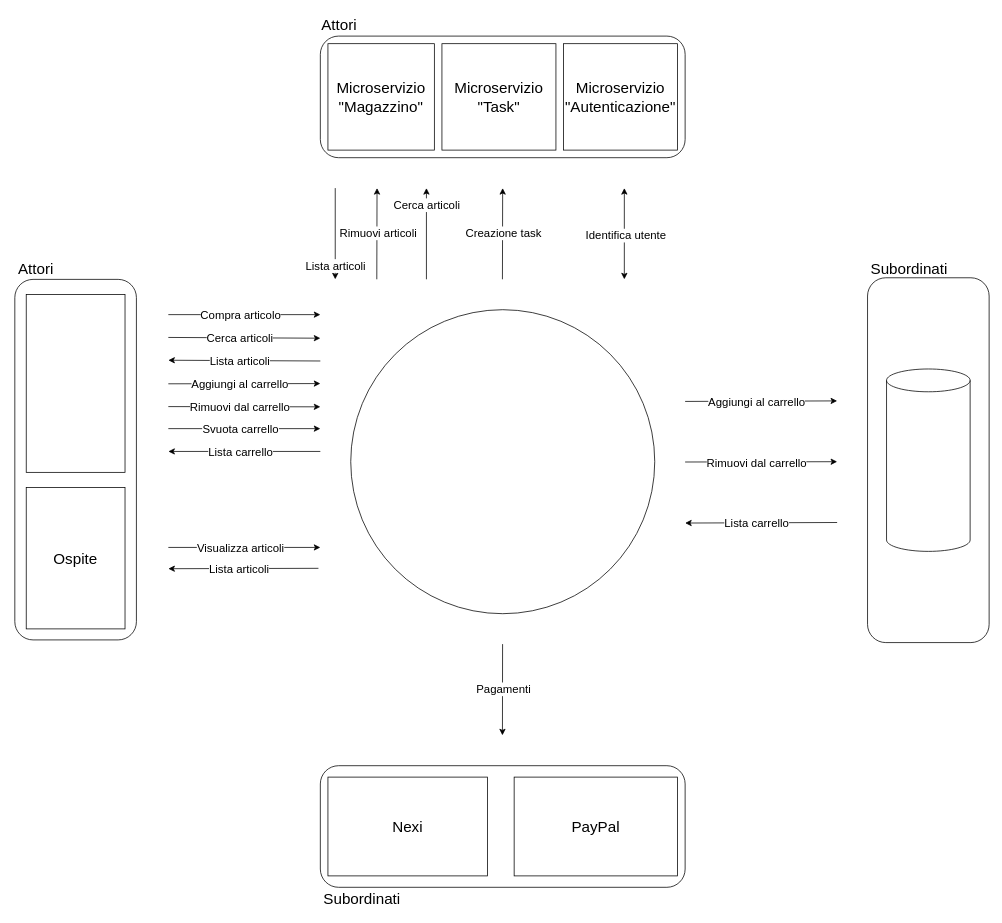
Image size: 1002x923. Some labels were removed from this diagram. Each missing label, with the centre of its shape:
Database: the point at 928,459
Microservizio "Negozio": the point at 502,461
Utente: the point at 75,383
